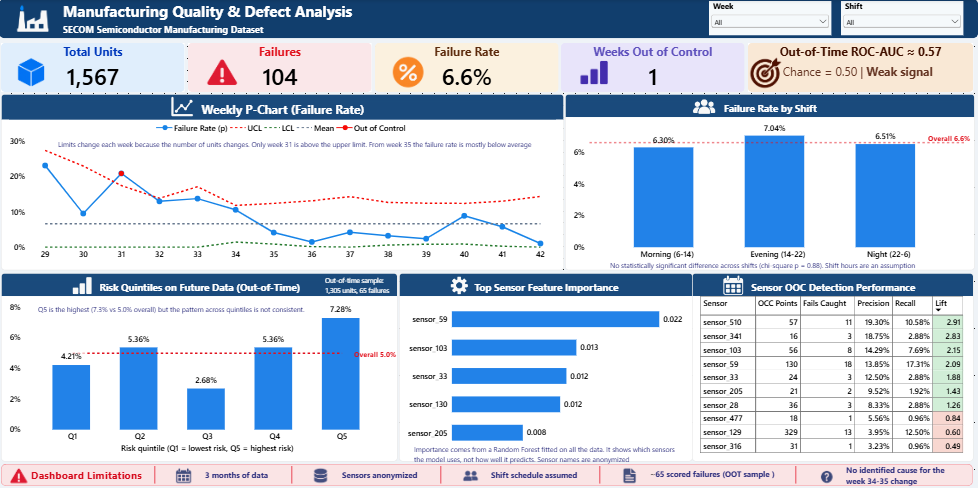

The page's visual inventory and layout, read from the dashboard file:
{"tool":"powerbi","page":{"name":"Page 1","canvas":[2000,1000],"ordinal":0},"visuals":[{"type":"shape","box":[0,0,2000,80],"z":0},{"type":"textbox","title":"Manufacturing Quality & Defect Analysis","box":[130,5,630,40],"z":1000},{"type":"textbox","title":"SECOM Semiconductor Manufacturing Dataset","box":[130,50,455,25],"z":2000},{"type":"slicer","fields":{"Values":["units.Week"]},"box":[1450,5,250,70],"z":3000},{"type":"slicer","fields":{"Values":["units.Shift"]},"box":[1720,5,250,70],"z":4000},{"type":"image","box":[5,5,130,70],"z":5000},{"type":"cardVisual","fields":{"Data":["Measure.Total Units"]},"box":[5,90,375,100],"z":6000},{"type":"cardVisual","fields":{"Data":["Measure.Failures"]},"box":[386.2,90,375,100],"z":7000},{"type":"cardVisual","fields":{"Data":["Measure.Failure Rate"]},"box":[767.5,90,375,100],"z":8000},{"type":"cardVisual","fields":{"Data":["Measure.Weeks Out of Control"]},"box":[1148.8,90,375,100],"z":9000},{"type":"cardVisual","fields":{"Data":["Measure.OOT ROC-AUC"]},"box":[1530,90,460,100],"z":10000},{"type":"textbox","box":[1590,130,330,50],"z":11000},{"type":"lineChart","title":"Weekly P-Chart (Failure Rate)","fields":{"Category":["weekly_pchart.Week"],"Y":["Avg(weekly_pchart.p)","Avg(weekly_pchart.UCL)","Avg(weekly_pchart.LCL)","Avg(weekly_pchart.pbar)","Avg(weekly_pchart.p_out)"]},"box":[5,195,1150,360],"z":12000},{"type":"lineStackedColumnComboChart","title":"Risk Quintiles on Future Data (Out-of-Time)","fields":{"Category":["risk_quintiles_oot.Quintile Label"],"Y":["Sum(risk_quintiles_oot.fail_rate)"],"Y2":["Measure.OOT Overall Rate Chart"]},"box":[5,560,810,385],"z":13000},{"type":"clusteredColumnChart","title":"Failure Rate by Shift","fields":{"Category":["shift_summary.Shift"],"Y":["Sum(shift_summary.fail_rate)"]},"box":[1157,195,837,360],"z":14000},{"type":"clusteredBarChart","title":"Top Sensor Feature Importance ","fields":{"Category":["feature_importance.Sensor"],"Y":["Sum(feature_importance.Importance)"]},"box":[817,560,600,385],"z":15000},{"type":"pivotTable","title":"Sensor OOC Detection Performance","fields":{"Rows":["sensor_ooc_stats.Sensor"],"Values":["Sum(sensor_ooc_stats.ooc_points)","Sum(sensor_ooc_stats.fails_caught)","Sum(sensor_ooc_stats.Precision)","Sum(sensor_ooc_stats.Recall)","Sum(sensor_ooc_stats.Lift)"]},"box":[1416,560,575,385],"z":16000},{"type":"image","box":[30,115,70,70],"z":17000},{"type":"image","box":[1530,115,70,70],"z":18000},{"type":"image","box":[1180,115,70,70],"z":19000},{"type":"image","box":[420,115,70,70],"z":20000},{"type":"image","box":[800,115,70,70],"z":21000},{"type":"image","box":[350,195,50,50],"z":22000},{"type":"image","box":[1415,195,50,50],"z":23000},{"type":"image","box":[145,560,50,50],"z":24000},{"type":"image","box":[1475,560,50,50],"z":25000},{"type":"image","box":[915,560,50,50],"z":26000},{"type":"shape","box":[5,949,1985,45],"z":27000},{"type":"textbox","box":[1730,952,230,42],"z":28000},{"type":"image","box":[1670,955,40,40],"z":29000},{"type":"shape","box":[1610,953,36,36],"z":30000},{"type":"textbox","box":[1330,961,265,30],"z":31000},{"type":"image","box":[1270,955,35,35],"z":32000},{"type":"shape","box":[1210,953,36,36],"z":33000},{"type":"textbox","box":[1005,963,190,30],"z":34000},{"type":"image","box":[945,955,35,35],"z":35000},{"type":"shape","box":[885,953,36,36],"z":36000},{"type":"textbox","box":[700,963,175,30],"z":37000},{"type":"image","box":[640,955,35,35],"z":38000},{"type":"shape","box":[580,953,36,36],"z":39000},{"type":"textbox","box":[420,963,160,30],"z":40000},{"type":"image","box":[360,955,35,35],"z":41000},{"type":"image","box":[20,953,40,40],"z":42000},{"type":"textbox","box":[65,957,245,35],"z":43000},{"type":"shape","box":[300,953,36,36],"z":44000},{"type":"textbox","box":[665,565,150,40],"z":45000},{"type":"textbox","box":[725,715,90,25],"z":48000},{"type":"textbox","box":[1897,274,90,25],"z":49000},{"type":"textbox","box":[80,625,560,25],"z":52000},{"type":"textbox","box":[120,288,980,25],"z":52500},{"type":"textbox","box":[1248,535,650,25],"z":53000},{"type":"textbox","box":[848,910,550,40],"z":53500}]}

Visuals, with their boxes in screenshot pixels (x1, y1, x2, y2), scaled from the page's 2000x1000 canvas onto the 978x488 screenshot:
shape: <region>0, 0, 977, 39</region>
"Manufacturing Quality & Defect Analysis" textbox: <region>64, 2, 372, 22</region>
"SECOM Semiconductor Manufacturing Dataset" textbox: <region>64, 24, 286, 37</region>
slicer - units.Week: <region>709, 2, 831, 37</region>
slicer - units.Shift: <region>841, 2, 963, 37</region>
image: <region>2, 2, 66, 37</region>
cardVisual - Measure.Total Units: <region>2, 44, 186, 93</region>
cardVisual - Measure.Failures: <region>189, 44, 372, 93</region>
cardVisual - Measure.Failure Rate: <region>375, 44, 559, 93</region>
cardVisual - Measure.Weeks Out of Control: <region>562, 44, 745, 93</region>
cardVisual - Measure.OOT ROC-AUC: <region>748, 44, 973, 93</region>
textbox: <region>778, 63, 939, 88</region>
"Weekly P-Chart (Failure Rate)" lineChart: <region>2, 95, 565, 271</region>
"Risk Quintiles on Future Data (Out-of-Time)" lineStackedColumnComboChart: <region>2, 273, 399, 461</region>
"Failure Rate by Shift" clusteredColumnChart: <region>566, 95, 975, 271</region>
"Top Sensor Feature Importance " clusteredBarChart: <region>400, 273, 693, 461</region>
"Sensor OOC Detection Performance" pivotTable: <region>692, 273, 974, 461</region>
image: <region>15, 56, 49, 90</region>
image: <region>748, 56, 782, 90</region>
image: <region>577, 56, 611, 90</region>
image: <region>205, 56, 240, 90</region>
image: <region>391, 56, 425, 90</region>
image: <region>171, 95, 196, 120</region>
image: <region>692, 95, 716, 120</region>
image: <region>71, 273, 95, 298</region>
image: <region>721, 273, 746, 298</region>
image: <region>447, 273, 472, 298</region>
shape: <region>2, 463, 973, 485</region>
textbox: <region>846, 465, 958, 485</region>
image: <region>817, 466, 836, 486</region>
shape: <region>787, 465, 805, 483</region>
textbox: <region>650, 469, 780, 484</region>
image: <region>621, 466, 638, 483</region>
shape: <region>592, 465, 609, 483</region>
textbox: <region>491, 470, 584, 485</region>
image: <region>462, 466, 479, 483</region>
shape: <region>433, 465, 450, 483</region>
textbox: <region>342, 470, 428, 485</region>
image: <region>313, 466, 330, 483</region>
shape: <region>284, 465, 301, 483</region>
textbox: <region>205, 470, 284, 485</region>
image: <region>176, 466, 193, 483</region>
image: <region>10, 465, 29, 485</region>
textbox: <region>32, 467, 152, 484</region>
shape: <region>147, 465, 164, 483</region>
textbox: <region>325, 276, 399, 295</region>
textbox: <region>355, 349, 399, 361</region>
textbox: <region>928, 134, 972, 146</region>
textbox: <region>39, 305, 313, 317</region>
textbox: <region>59, 141, 538, 153</region>
textbox: <region>610, 261, 928, 273</region>
textbox: <region>415, 444, 684, 464</region>
